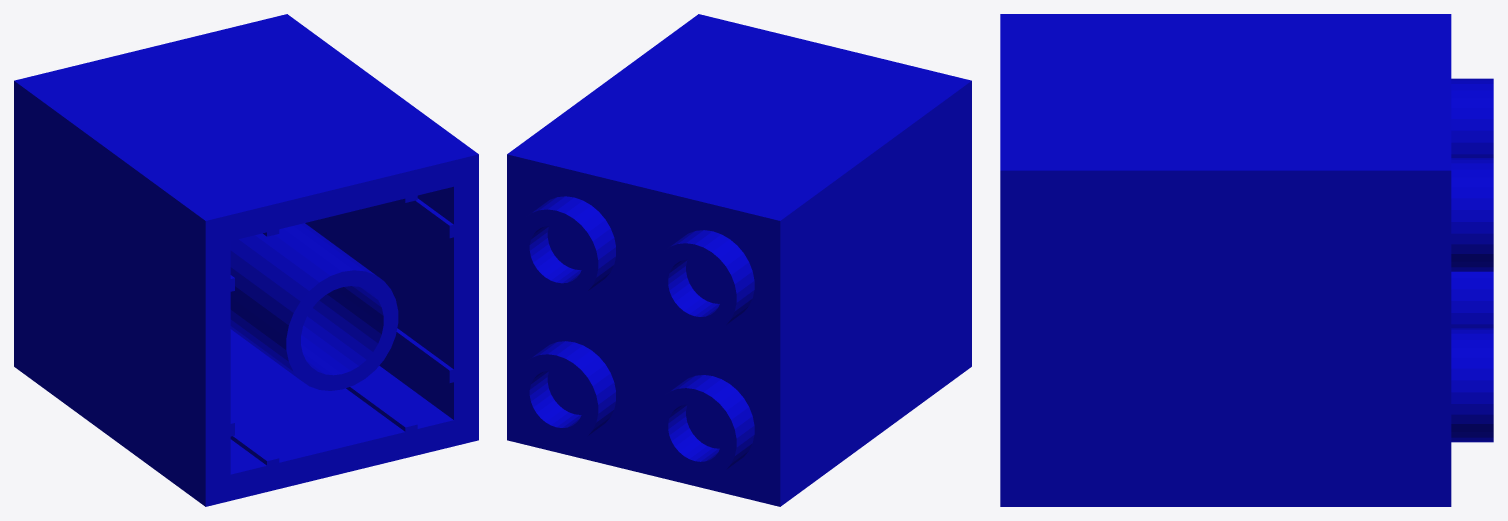
The model's file is duplo5_4.dae.
3 views of the same model, side by side, from view 1: azimuth 30°, elevation 25°; view 2: azimuth 150°, elevation 25°; view 3: azimuth 270°, elevation 25° (orthographic). The views are drawn at different scales.
Visible parts, largest first — view 1: duplo5; view 2: duplo5; view 3: duplo5.
Part boxes in pixels (bbox=[...]): duplo5: bbox=[14, 14, 478, 506]; duplo5: bbox=[507, 14, 971, 506]; duplo5: bbox=[1000, 14, 1493, 506].
Size of the model in its own units: 0.0643 by 0.0855 by 0.0643.
